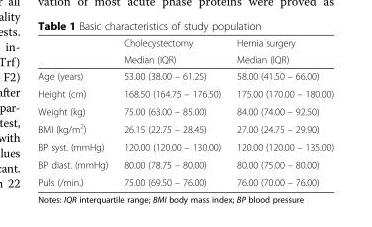table: (37, 36, 333, 187)
table column: (115, 36, 228, 187), (228, 36, 333, 187), (37, 36, 115, 187)
table column header: (37, 36, 333, 67)
table row: (37, 84, 333, 102), (37, 119, 333, 137), (37, 137, 333, 155), (37, 155, 333, 173), (37, 50, 333, 67), (37, 67, 333, 84), (37, 102, 333, 119), (37, 36, 333, 50), (37, 173, 333, 187)
table spanning cell: (115, 36, 228, 67), (228, 36, 333, 67)
